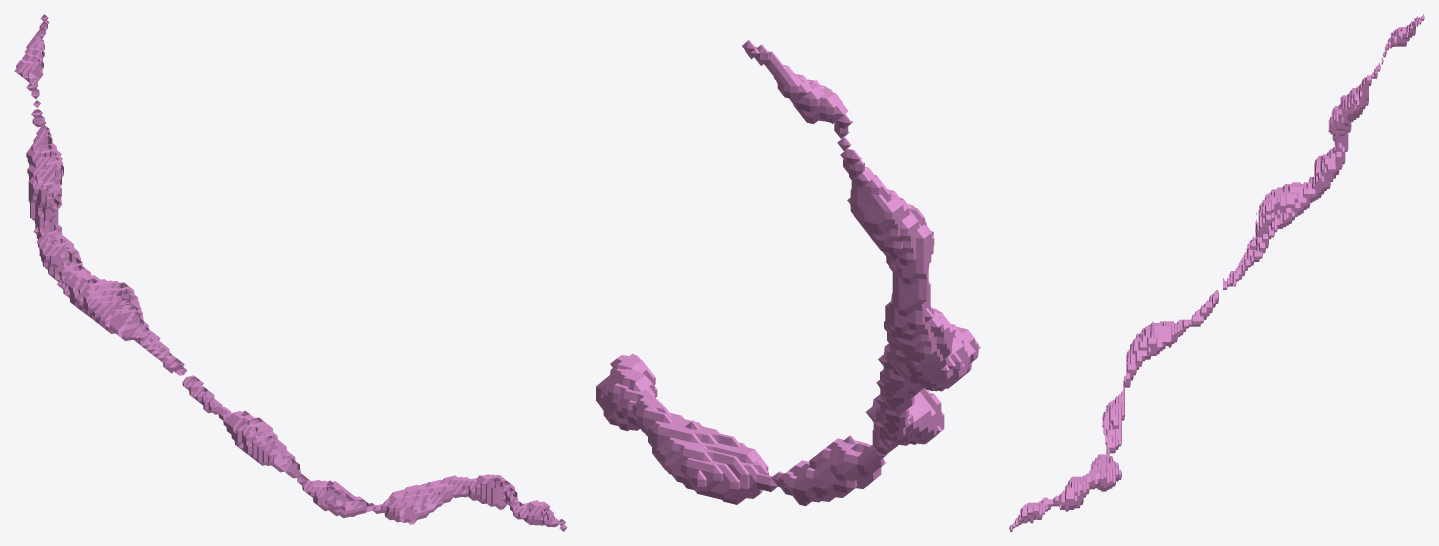
Rendered from SVV_PVCR.gltf.
3 renders of one model, left to right at view 1: azimuth 30°, elevation 25°; view 2: azimuth 150°, elevation 25°; view 3: azimuth 270°, elevation 25°, orthographic. The views are drawn at different scales.
Visible parts, largest first — view 1: PVCR; view 2: PVCR; view 3: PVCR.
Part boxes in pixels (left/top/right/bottom): PVCR: left=14, top=14, right=567, bottom=531; PVCR: left=596, top=40, right=980, bottom=506; PVCR: left=1009, top=14, right=1424, bottom=531.
Size of the model in its own units: 48661 by 55834 by 54307.
